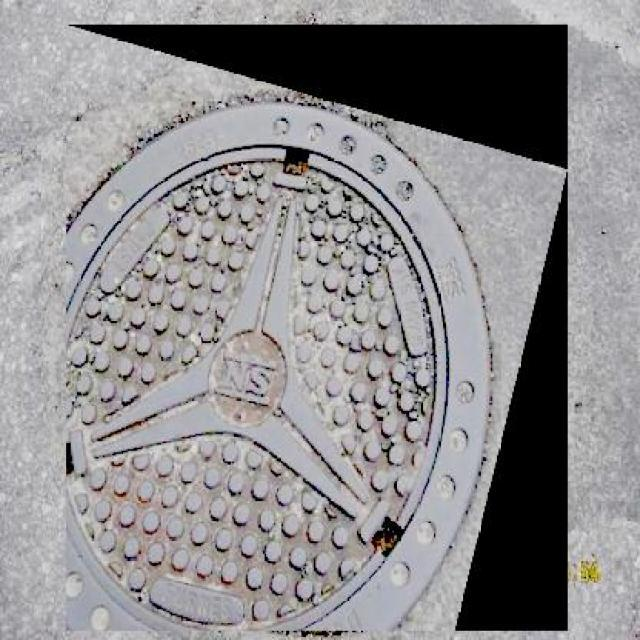Manhole: (66, 24, 568, 632)
